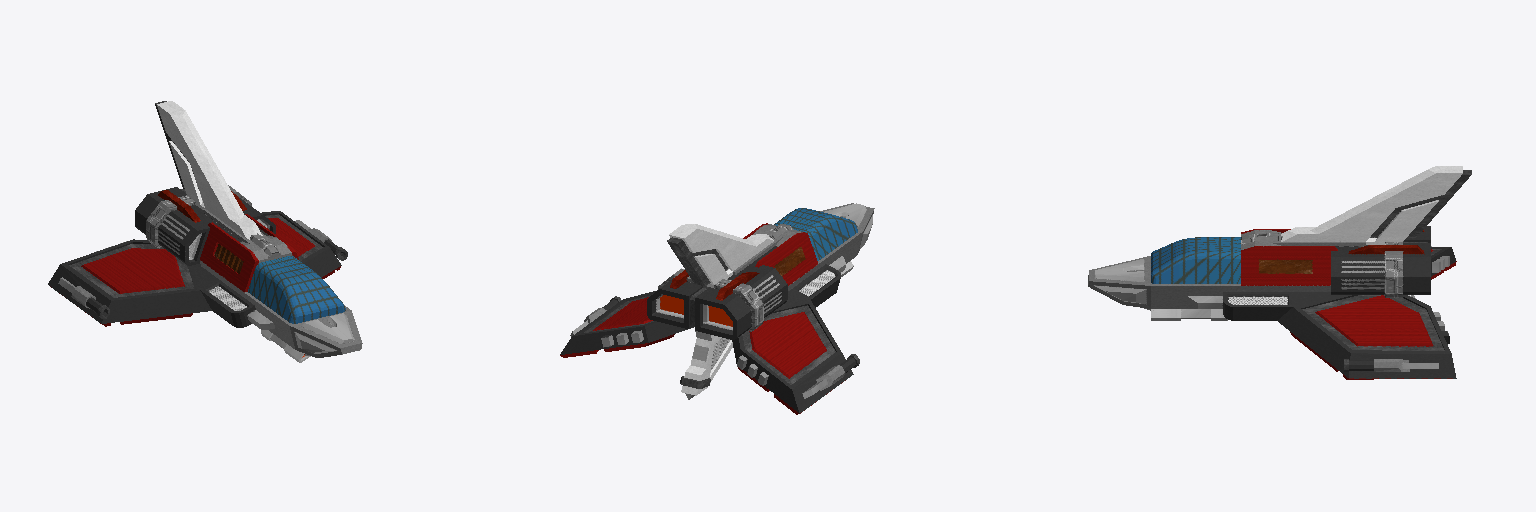
The picture shows the model from 3 angles: view 1: azimuth 30°, elevation 25°; view 2: azimuth 150°, elevation 25°; view 3: azimuth 270°, elevation 25°; orthographic projection.
Visible parts, largest first — view 1: mesh; view 2: mesh; view 3: mesh.
Boxes of the visible parts, x1=… form: mesh: x1=48, y1=101, x2=362, y2=362; mesh: x1=560, y1=203, x2=874, y2=414; mesh: x1=1088, y1=166, x2=1471, y2=379.
Size of the model in its own units: 0.9995 by 0.6637 by 1.33.
1 materials, 1 textured.